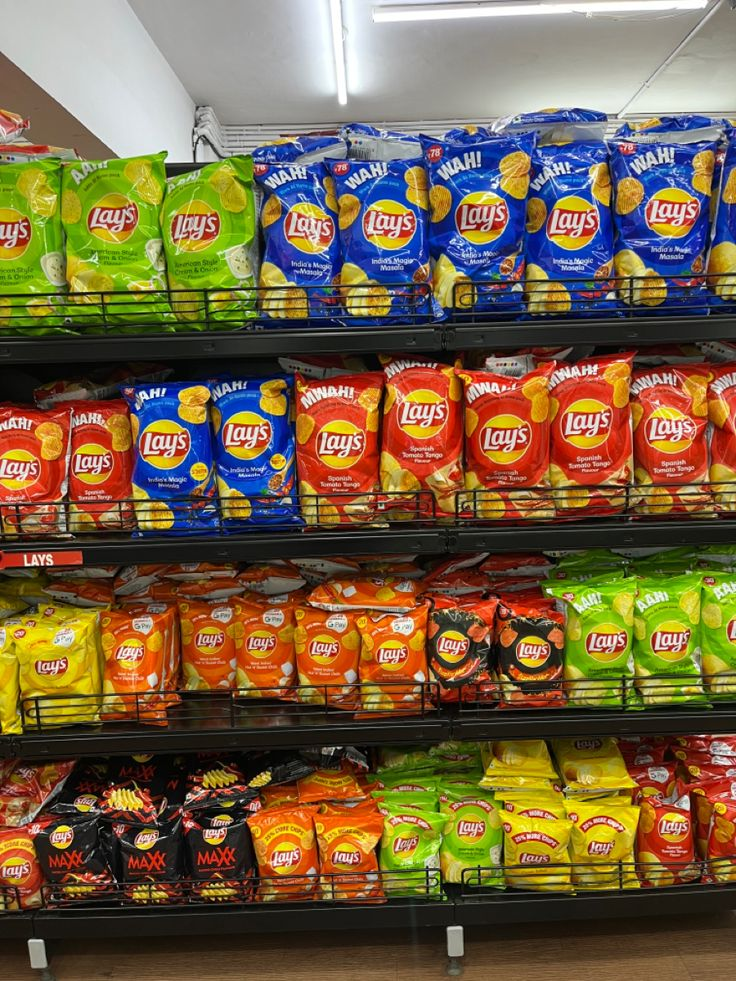Lays: (293, 405, 379, 491)
